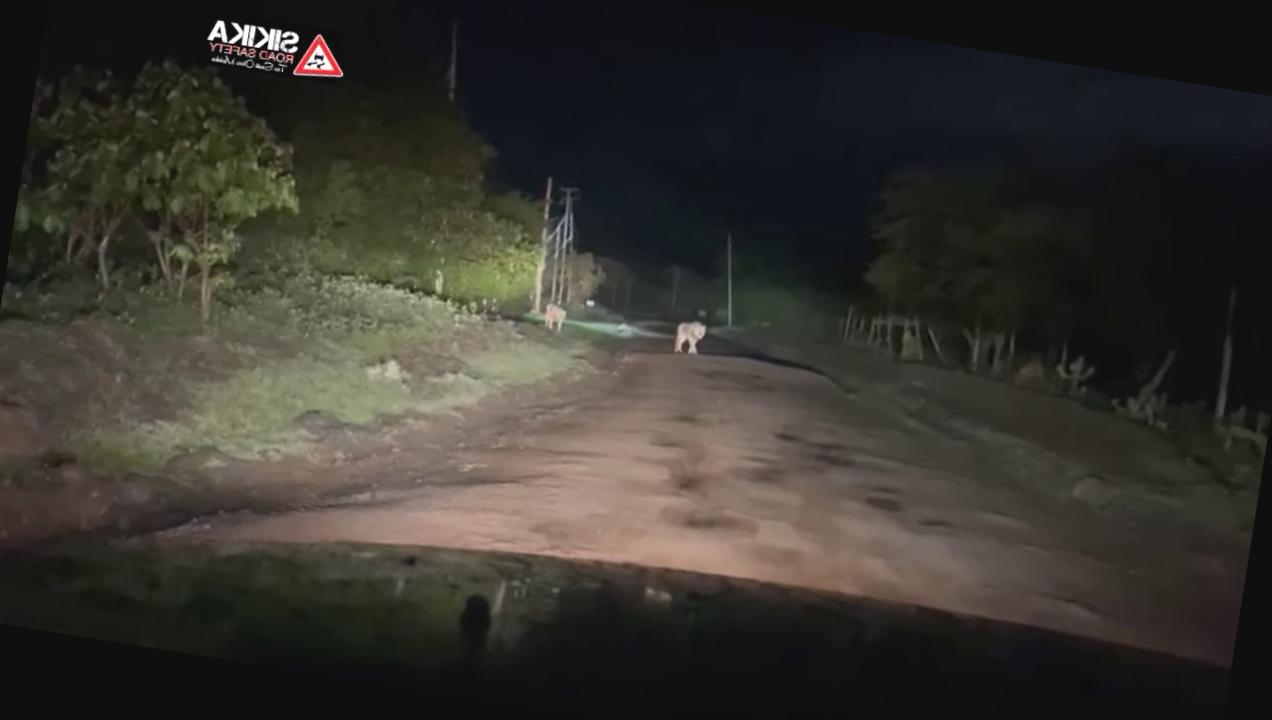lions: (667, 314, 712, 364)
